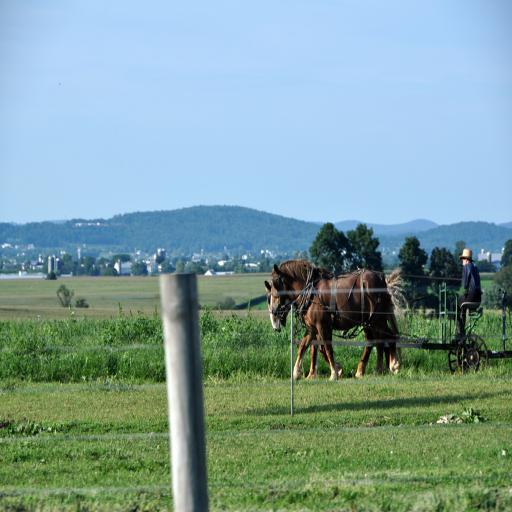horse: (264, 278, 408, 382), (272, 264, 388, 384)
